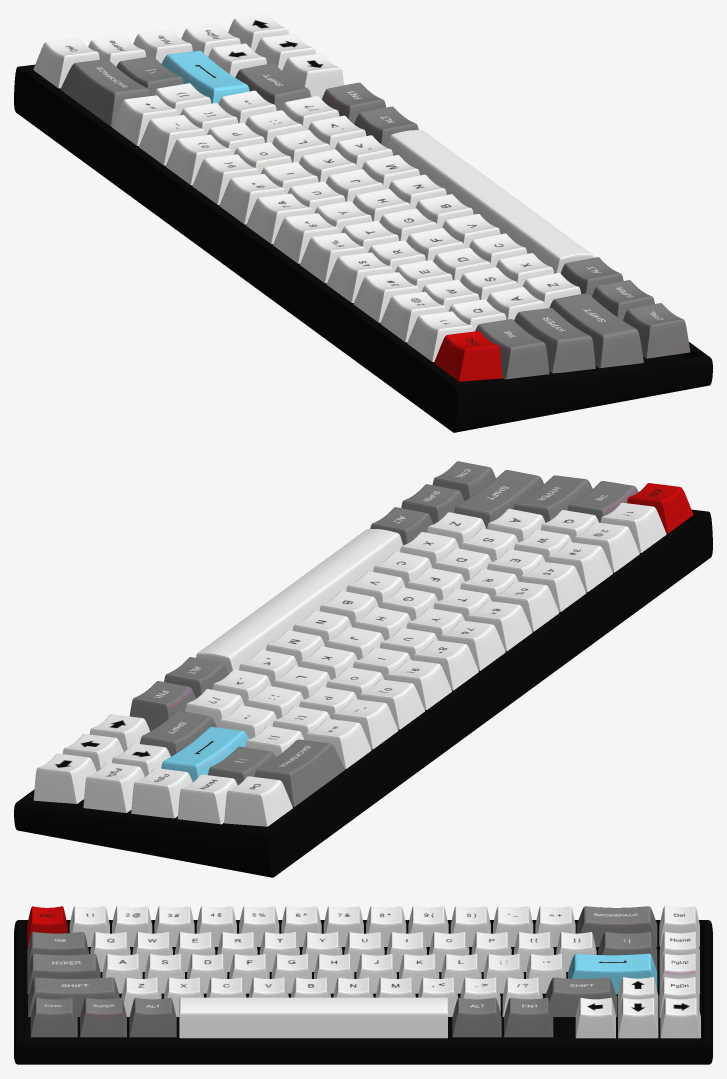
The model's file is 60_Keyboard_2_minimalist-transformed.glb.
3 views of the same model, one above another, from view 1: azimuth 30°, elevation 25°; view 2: azimuth 150°, elevation 25°; view 3: azimuth 270°, elevation 25° (orthographic). The views are drawn at different scales.
Visible parts, largest first — view 1: Plane; view 2: Plane; view 3: Plane.
Part boxes in pixels (<box>): Plane: <box>14,14,712,432</box>; Plane: <box>14,461,712,877</box>; Plane: <box>14,906,712,1064</box>.
Bounding box in the file's own units: 4.25 × 1.38 × 12.64.
2 materials, 1 textured.
